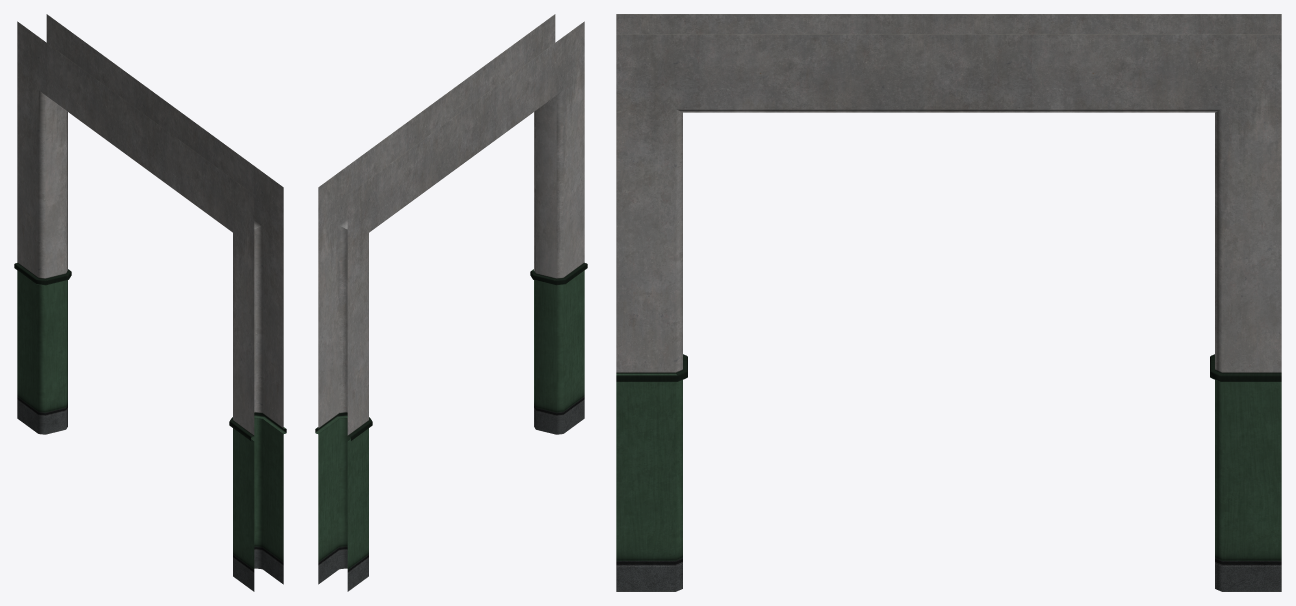
File: Psychiatric_Ward_Infirmary_Wall_Gate_A.glb
3 views of the same model, side by side, from view 1: azimuth 30°, elevation 25°; view 2: azimuth 150°, elevation 25°; view 3: azimuth 270°, elevation 25° (orthographic). The views are drawn at different scales.
Parts seen in each view (by area): view 1: Psychiatric_Ward_Infirmary_Wall_Gate_A; view 2: Psychiatric_Ward_Infirmary_Wall_Gate_A; view 3: Psychiatric_Ward_Infirmary_Wall_Gate_A.
Part boxes in pixels (x1,y1,x2,y2): Psychiatric_Ward_Infirmary_Wall_Gate_A: (14, 14, 286, 591); Psychiatric_Ward_Infirmary_Wall_Gate_A: (315, 14, 587, 591); Psychiatric_Ward_Infirmary_Wall_Gate_A: (616, 14, 1281, 591).
Size of the model in its own units: 0.3474 by 3.7 by 4.
1 material, 1 textured.
